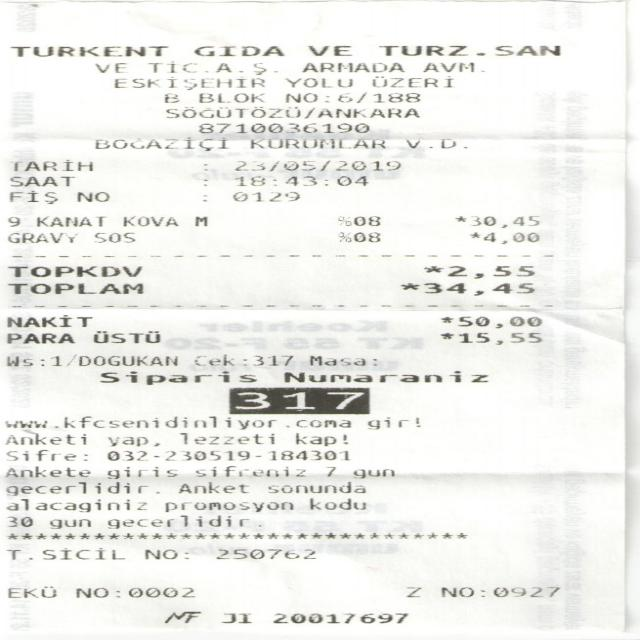text: (3, 416, 351, 429), (5, 532, 469, 540), (165, 106, 418, 118), (106, 449, 351, 460), (282, 370, 486, 383), (106, 514, 261, 528), (3, 481, 157, 495), (98, 371, 253, 384), (111, 76, 264, 89), (3, 498, 144, 512), (91, 137, 230, 151), (144, 61, 278, 75), (6, 355, 174, 366), (246, 136, 385, 149), (398, 282, 532, 295), (234, 160, 398, 170), (377, 45, 557, 54), (4, 547, 127, 560), (8, 46, 166, 56), (198, 123, 366, 132), (5, 283, 142, 294), (438, 586, 562, 598), (6, 266, 141, 277), (437, 331, 541, 345), (284, 92, 416, 103), (423, 265, 533, 278), (74, 586, 192, 598), (193, 465, 305, 477), (272, 613, 406, 623), (234, 176, 366, 186), (161, 502, 290, 512), (439, 315, 538, 328), (10, 158, 94, 172), (178, 432, 276, 444), (454, 215, 538, 228), (3, 432, 86, 445), (194, 354, 290, 365), (266, 482, 362, 493), (300, 62, 403, 72), (5, 315, 90, 327), (3, 465, 87, 477), (372, 76, 454, 88), (91, 330, 162, 343), (192, 46, 282, 56), (216, 549, 315, 558), (4, 450, 86, 460), (5, 332, 73, 344), (106, 467, 174, 479), (470, 231, 537, 243), (227, 190, 299, 201), (197, 92, 266, 103), (176, 482, 245, 493), (308, 497, 364, 510), (6, 190, 57, 204), (35, 216, 104, 226), (283, 77, 351, 87), (7, 232, 75, 242), (294, 433, 346, 446), (366, 417, 421, 429), (309, 355, 374, 365), (8, 176, 71, 186), (422, 62, 482, 72), (405, 138, 464, 148), (6, 586, 54, 598), (122, 215, 177, 225), (106, 437, 158, 446), (162, 611, 200, 623), (351, 468, 396, 478), (46, 519, 90, 529), (142, 549, 186, 559), (93, 232, 133, 242), (338, 232, 378, 242), (307, 45, 349, 54), (338, 216, 378, 225), (95, 62, 128, 72), (76, 191, 108, 201), (6, 516, 32, 527), (221, 614, 250, 623), (160, 92, 180, 103), (405, 586, 421, 598), (322, 465, 337, 477), (6, 216, 18, 226), (194, 216, 204, 226), (201, 162, 210, 170), (200, 193, 208, 202), (200, 178, 207, 186)
